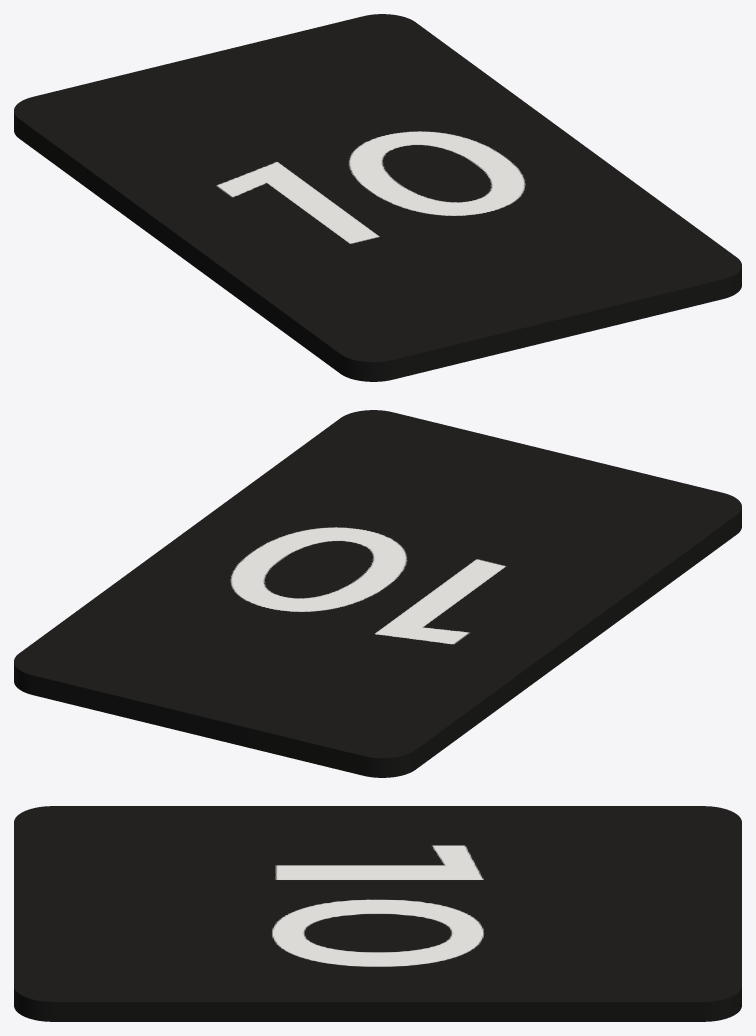
File: black_10.glb
3 renders of one model, top to bottom at view 1: azimuth 30°, elevation 25°; view 2: azimuth 150°, elevation 25°; view 3: azimuth 270°, elevation 25°, orthographic.
Parts seen in each view (by area): view 1: black_10; view 2: black_10; view 3: black_10.
Part boxes in pixels (x1,y1,x2,y2): black_10: (14,14,741,381); black_10: (14,410,741,777); black_10: (14,806,741,1021).
Size of the model in its own units: 0.042 by 0.002 by 0.066.
Materials: 2 (1 with a texture image).
